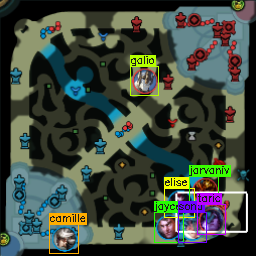camille: (53, 226, 77, 251)
elise: (167, 191, 192, 213)
galio: (132, 68, 156, 93)
jarvaniv: (191, 178, 216, 202)
jayce: (156, 215, 179, 238)
sona: (179, 216, 204, 239)
taric: (198, 209, 222, 232)
